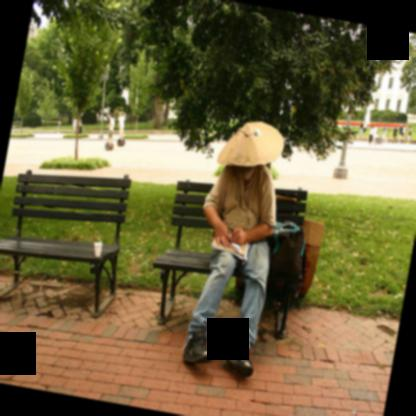backpack: (265, 219, 306, 307)
